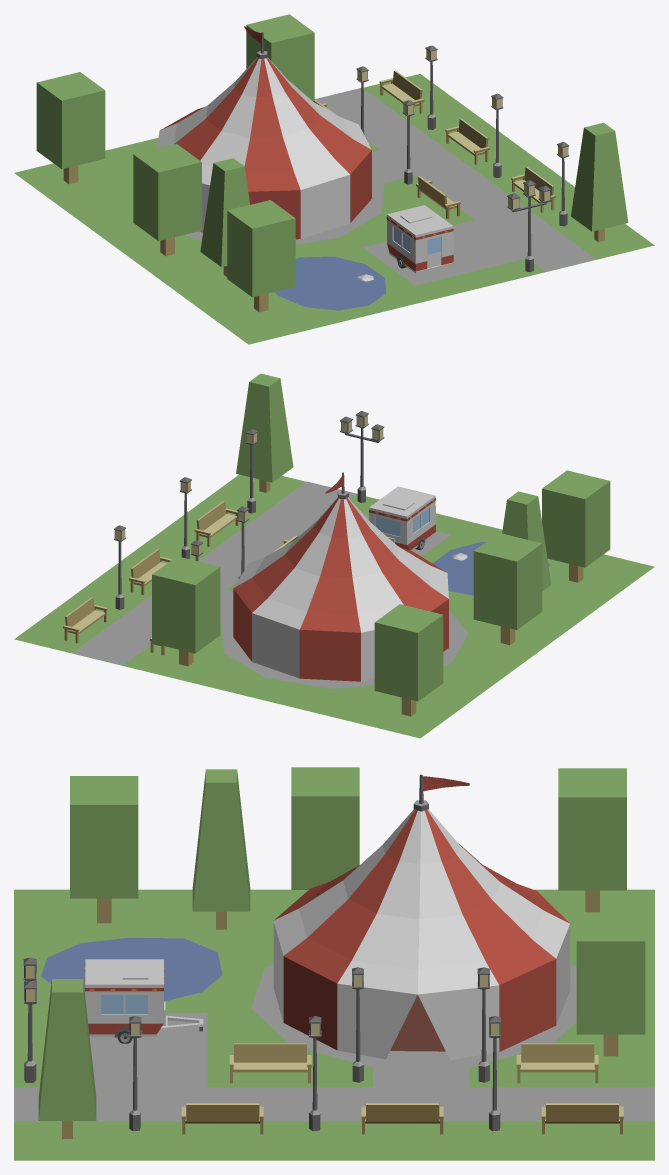
The model's file is park_007.fbx.
3 views of the same model, one above another, from view 1: azimuth 30°, elevation 25°; view 2: azimuth 150°, elevation 25°; view 3: azimuth 270°, elevation 25° (orthographic). The views are drawn at different scales.
Parts seen in each view (by area): view 1: park_007; view 2: park_007; view 3: park_007.
Boxes of the visible parts, x1,y1,x2,y2 form: park_007: (14,14,654,344); park_007: (14,373,654,738); park_007: (14,767,654,1160).
Size of the model in its own units: 1600 by 622 by 1600.
